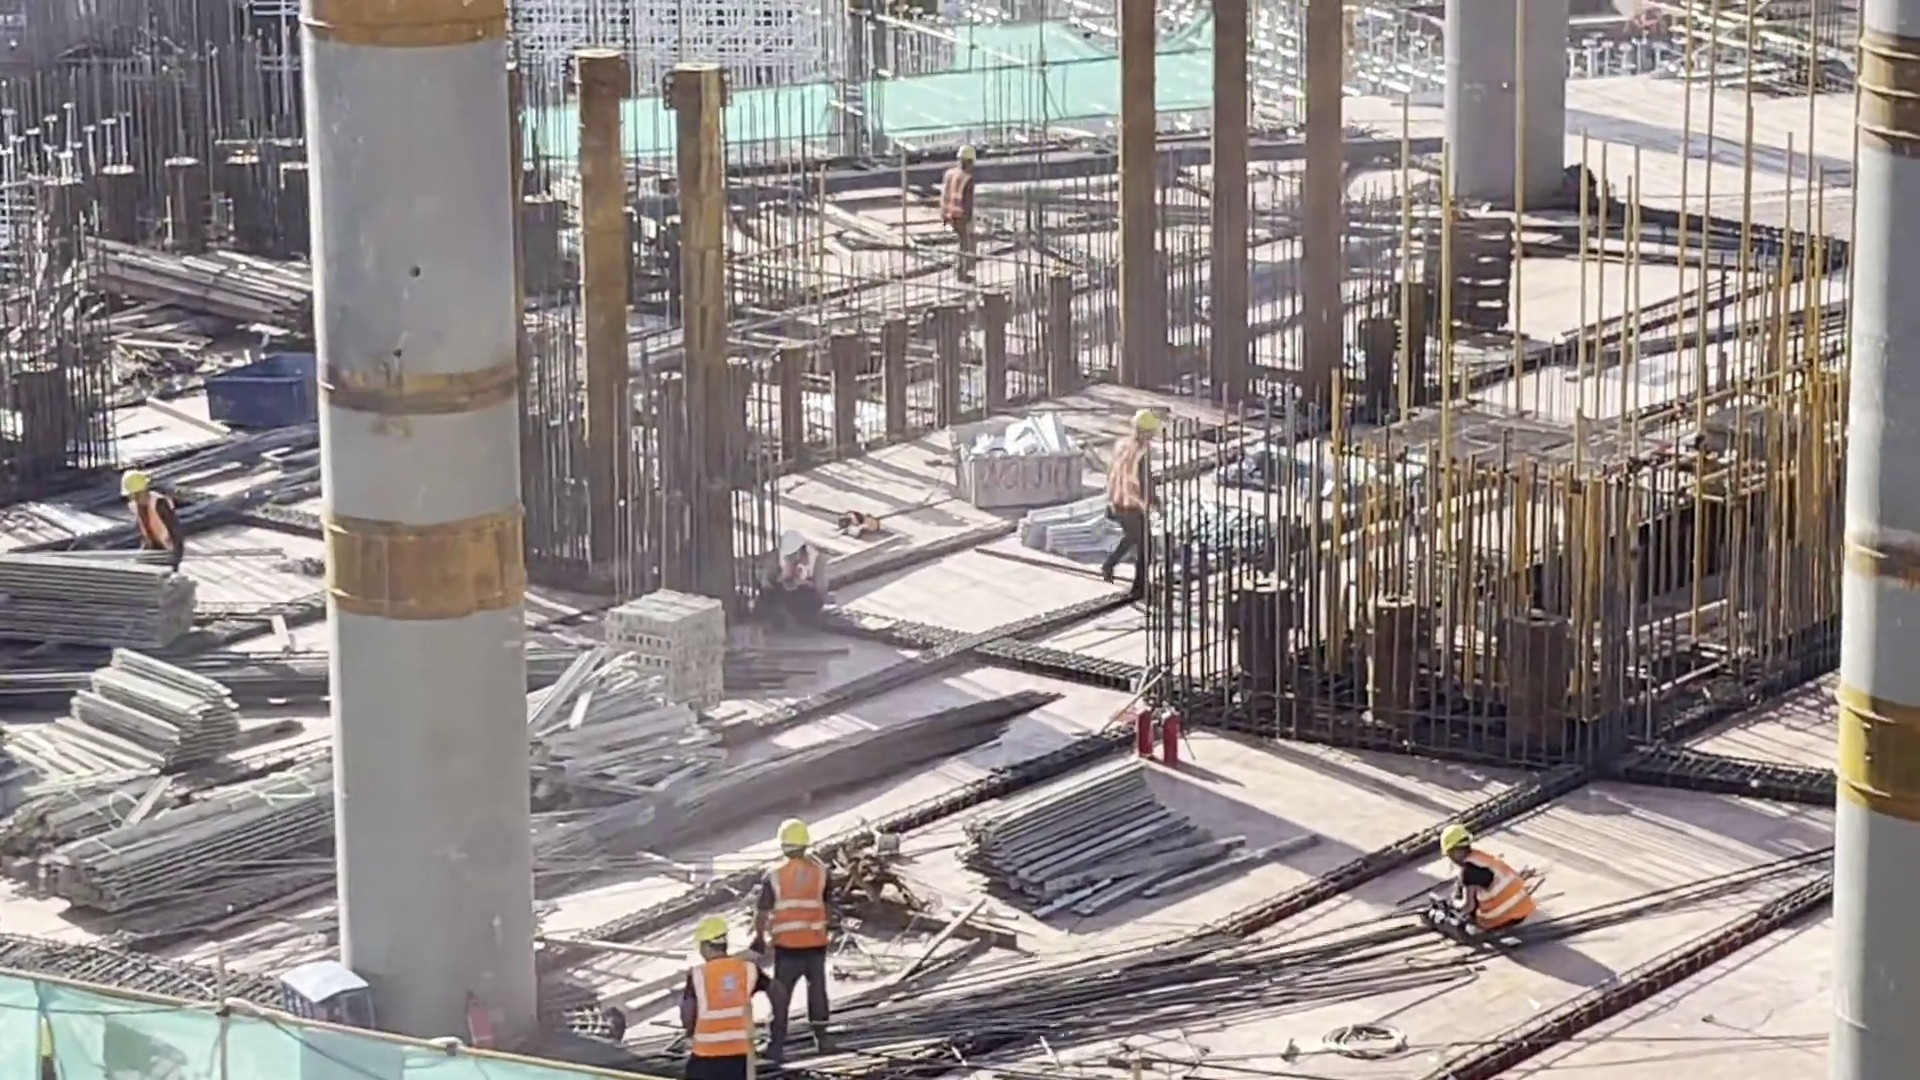helmet: (689, 913, 744, 945), (112, 464, 156, 500), (770, 817, 811, 850), (774, 527, 815, 561), (1443, 824, 1469, 856), (1132, 411, 1154, 445), (960, 134, 980, 157)
person: (1395, 805, 1567, 954), (740, 794, 836, 1048), (1088, 368, 1184, 574), (660, 909, 764, 1080), (92, 446, 207, 593), (922, 119, 999, 282), (758, 532, 838, 639)
vest: (670, 956, 762, 1061), (1460, 842, 1536, 932), (758, 854, 821, 954), (934, 161, 978, 234), (1119, 428, 1154, 515), (129, 489, 175, 548)
